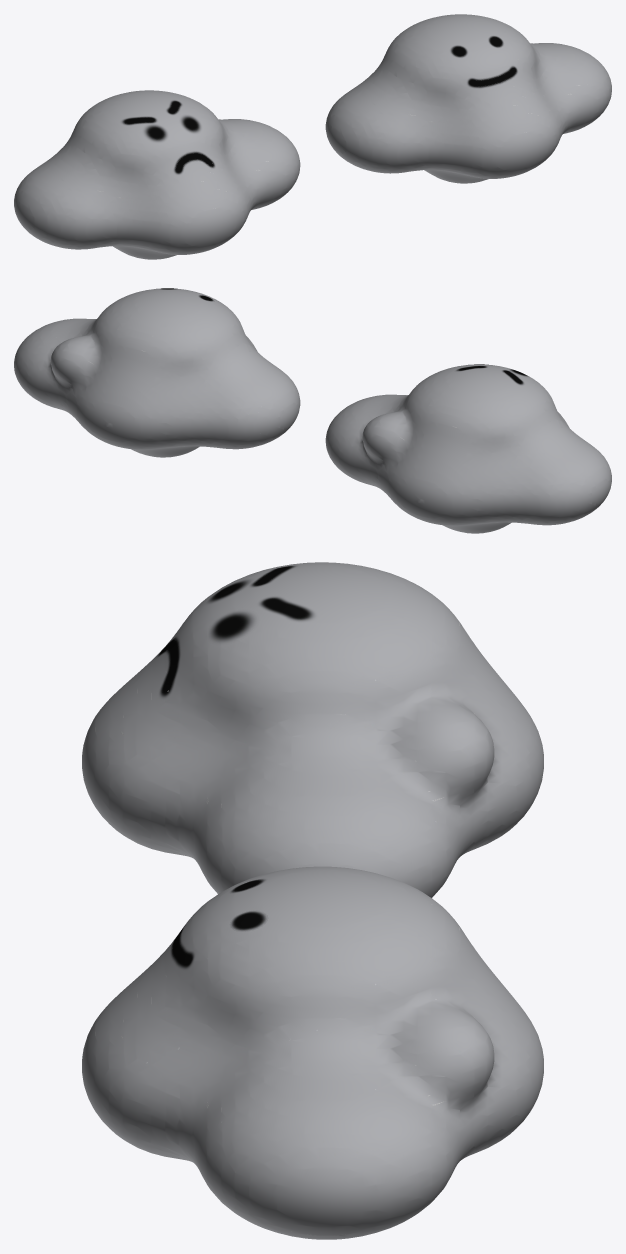
The model's file is clouds.fbx.
The picture shows the model from 3 angles, top to bottom: view 1: azimuth 30°, elevation 25°; view 2: azimuth 150°, elevation 25°; view 3: azimuth 270°, elevation 25°; orthographic projection. The views are drawn at different scales.
Visible parts, largest first — view 1: cloud.001, cloud; view 2: cloud, cloud.001; view 3: cloud.001, cloud.
Part boxes in pixels (x1,y1,x2,y2): cloud.001: (325, 14, 611, 183); cloud: (14, 90, 300, 259); cloud: (325, 364, 611, 533); cloud.001: (14, 288, 300, 457); cloud.001: (82, 866, 543, 1239); cloud: (82, 562, 543, 897).
Size of the model in its own units: 1848 by 464 by 637.
Materials: 2 (2 with a texture image).
